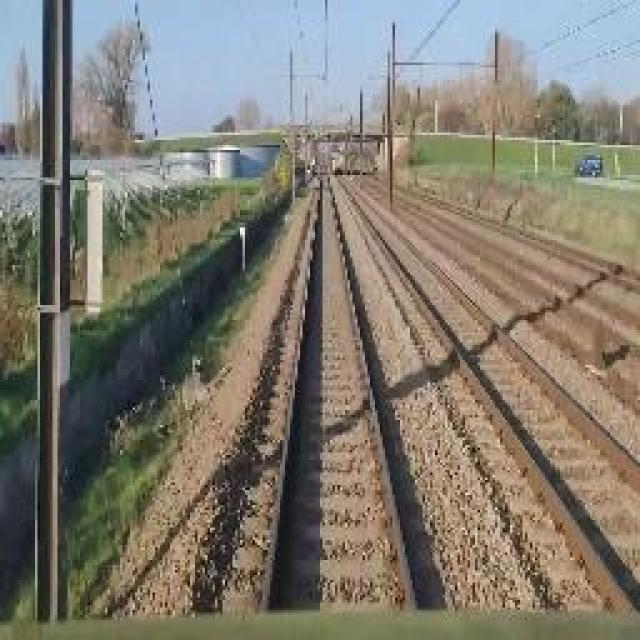rail: (330, 169, 640, 612), (207, 171, 441, 616)
